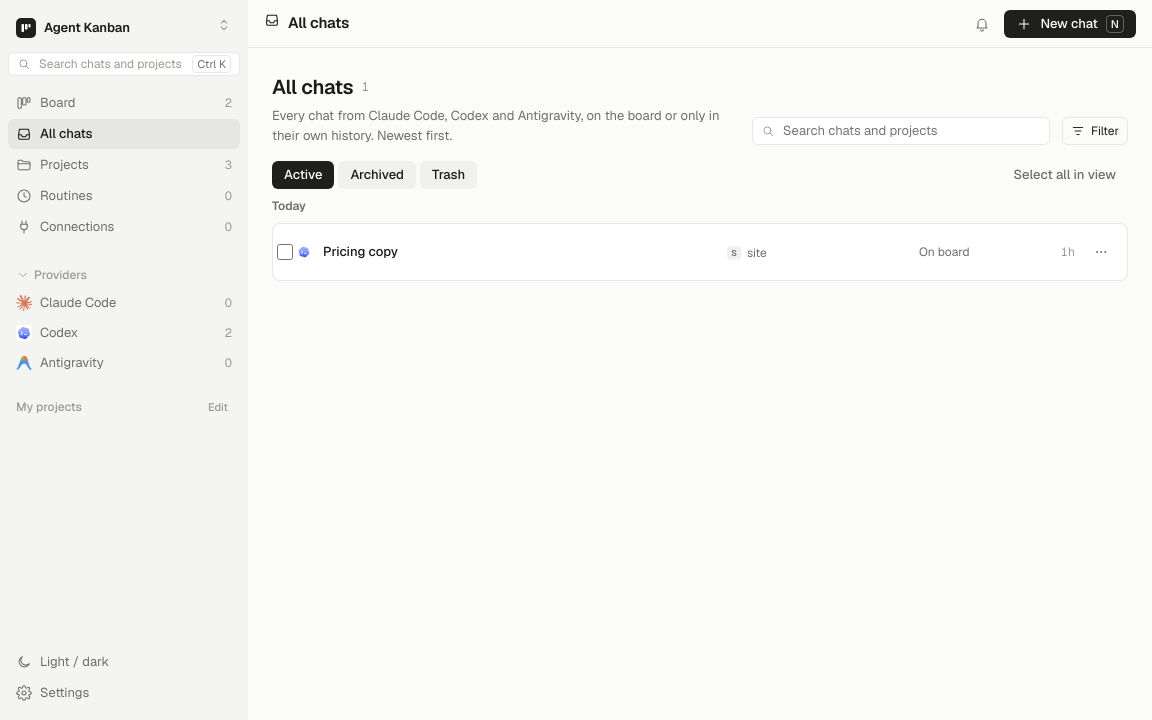
Test case: All chats › switches to Archived and offers the same row menu for board and history chats
The width and height of the screenshot is (1152, 720).
What coordinates should you click on to do the following:
click the tab "Archived"
I would click on:
 (377, 175)
Its box is [338,161,416,189].
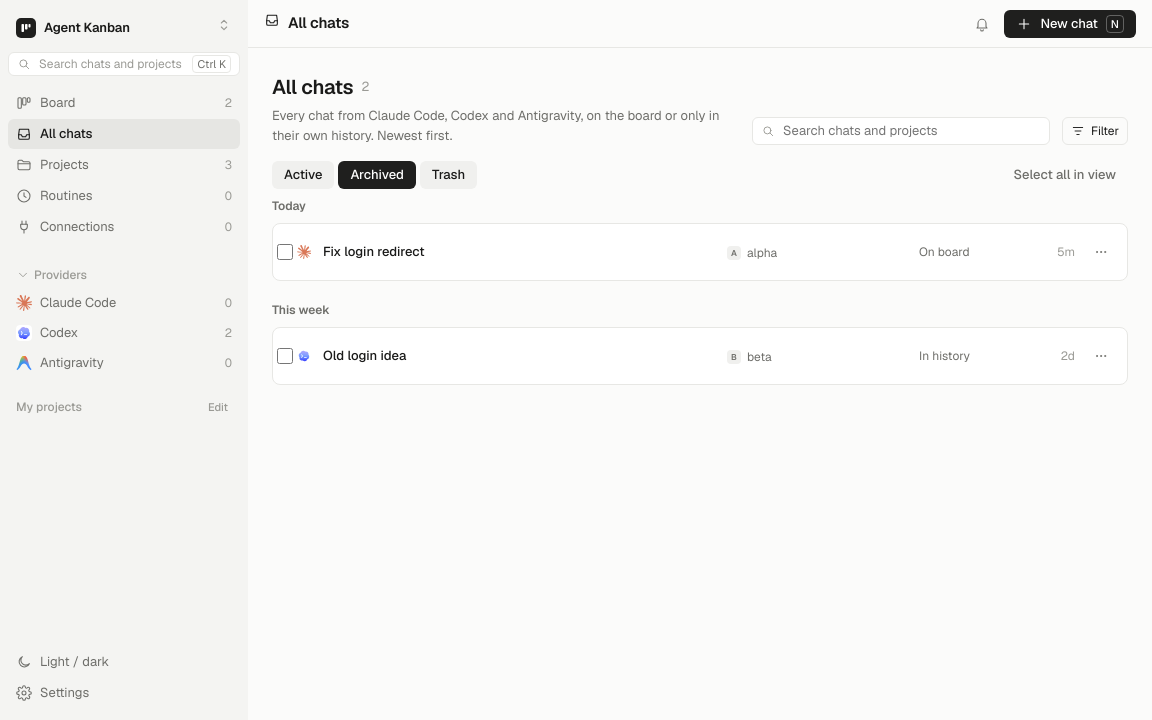
Now the number of buttons named "More actions" is 2, box [1087,238,1115,266]; [1087,342,1115,370]
